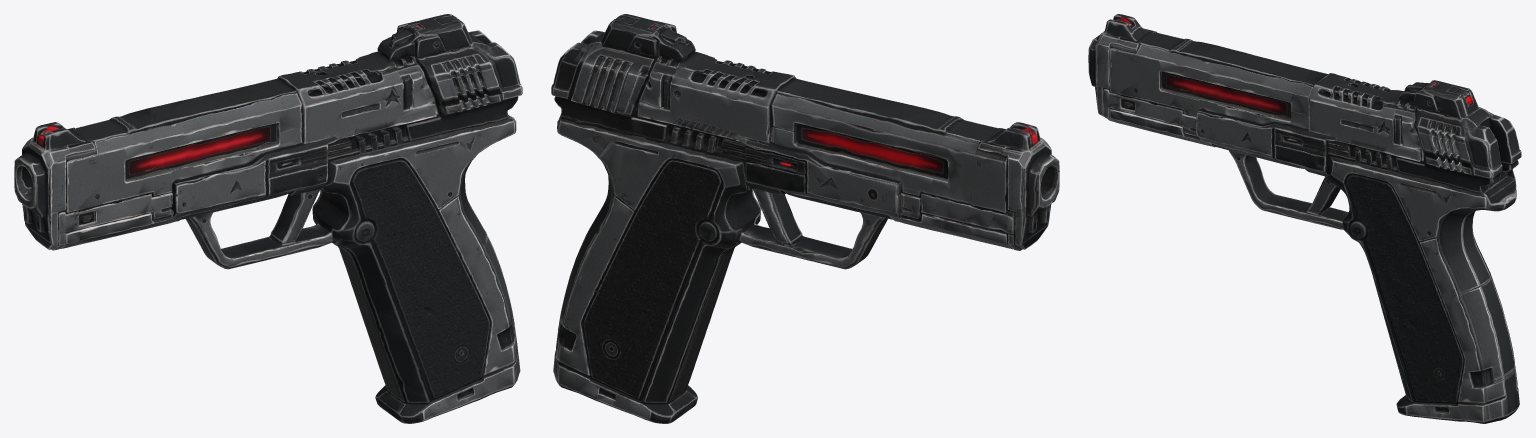
File: service_pistol.glb
3 views of the same model, side by side, from view 1: azimuth 30°, elevation 25°; view 2: azimuth 150°, elevation 25°; view 3: azimuth 330°, elevation 25° (orthographic). The views are drawn at different scales.
Parts seen in each view (by area): view 1: ServicePistolMesh; view 2: ServicePistolMesh; view 3: ServicePistolMesh.
Part boxes in pixels (x1,y1,x2,y2): ServicePistolMesh: [14, 14, 522, 423]; ServicePistolMesh: [551, 14, 1059, 423]; ServicePistolMesh: [1088, 14, 1521, 423].
Bounding box in the file's own units: 1.9 × 1.41 × 0.2513.
Materials: 1 (1 with a texture image).
